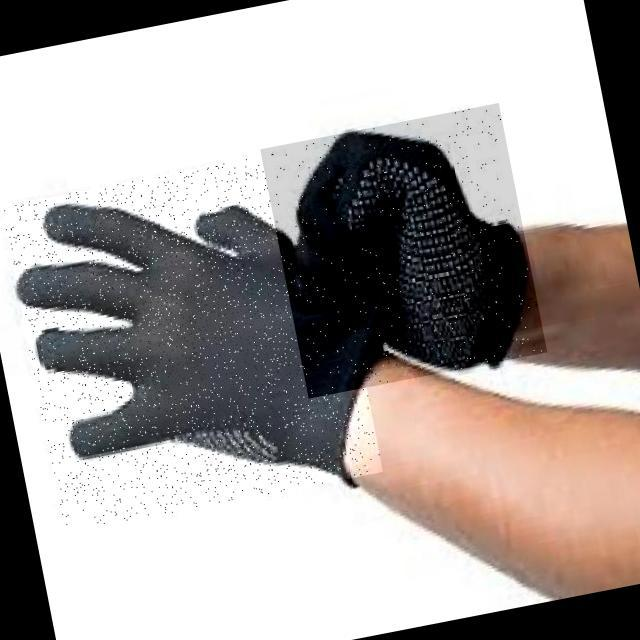Gloves: (2, 145, 384, 534), (261, 103, 548, 399)
